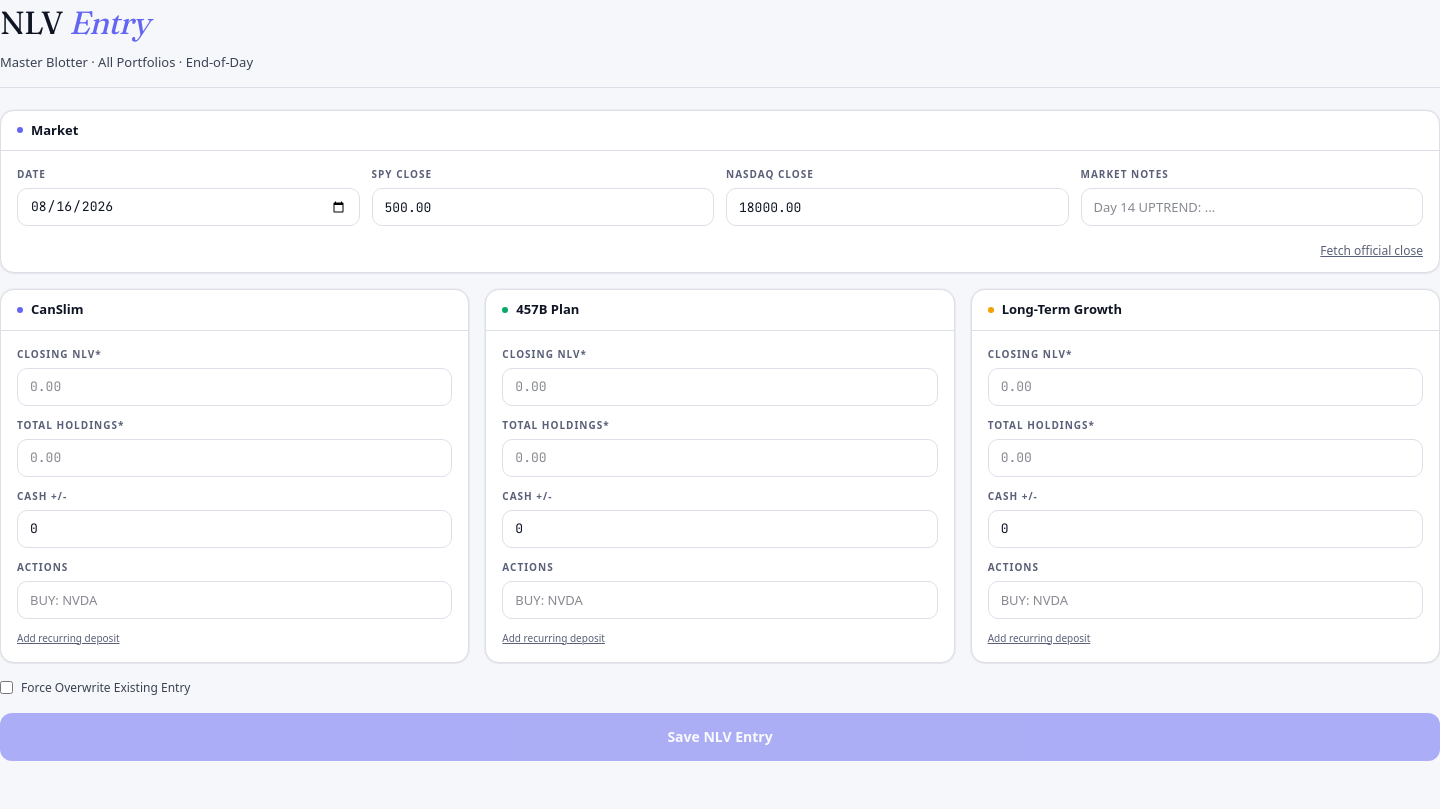
Scenario: NLVEntry — save handler › renders success banner on 200 response
Expected: the element with test id "portfolio-card-CanSlim" is shown, [0, 289, 469, 662]
Type "100000" into the number field with test id "nlv-input-CanSlim" at (235, 386), box [17, 368, 452, 406]
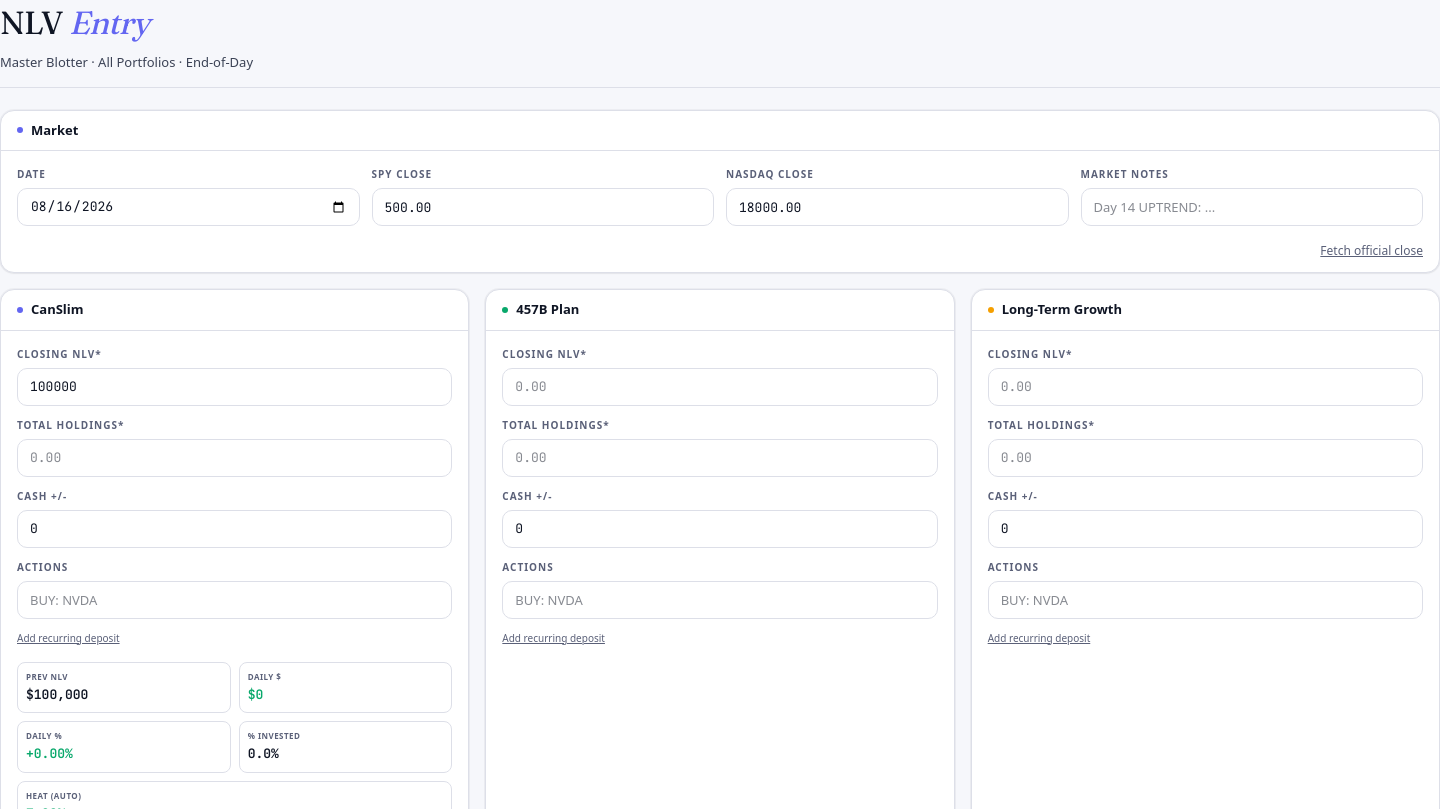
Type "90000" into the number field with test id "holdings-input-CanSlim" at (235, 458), box [17, 438, 452, 476]
Type "100000" into the number field with test id "nlv-input-457B Plan" at (720, 386), box [502, 368, 938, 406]
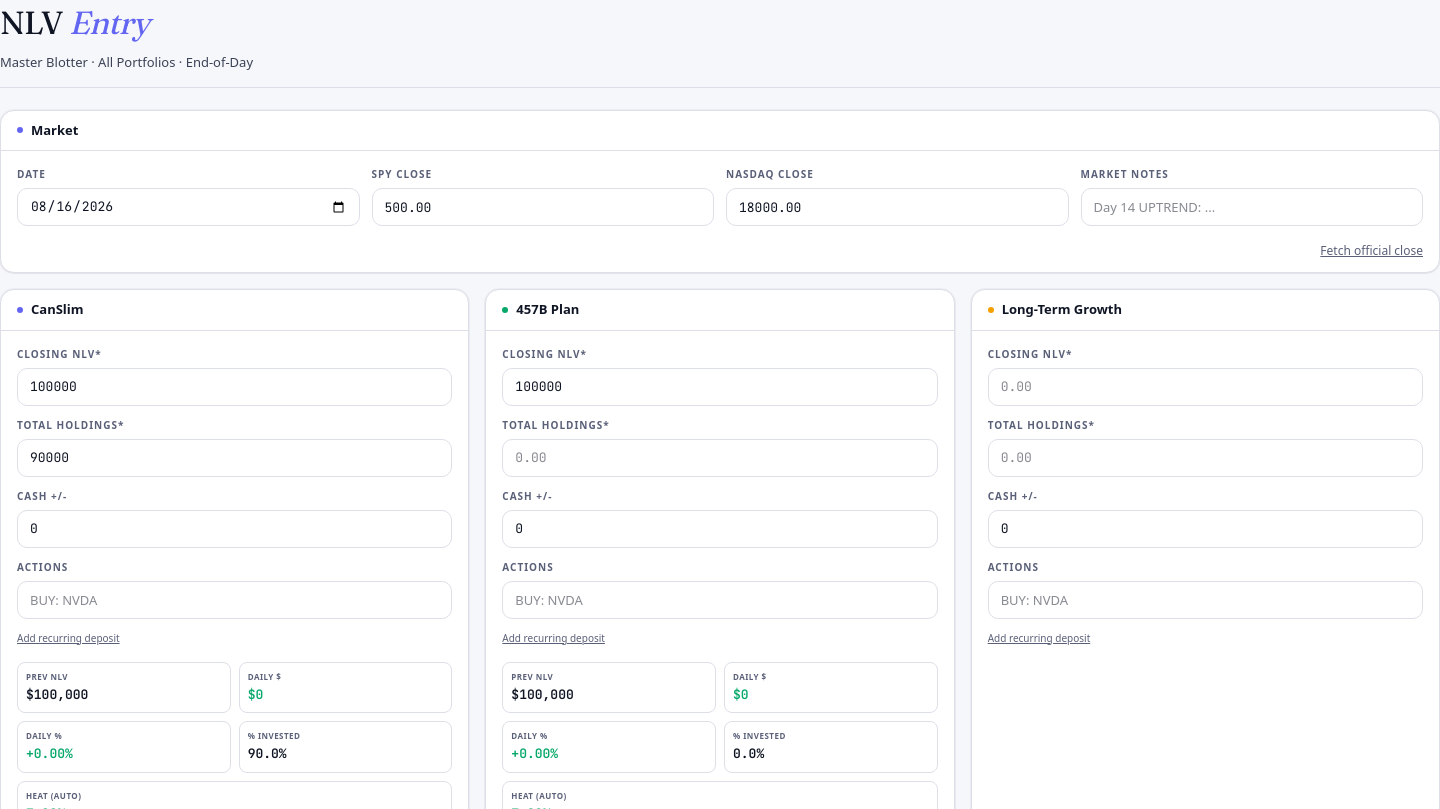
Type "90000" into the number field with placeholder "0.00" below "457B Plan" at (720, 458), box [502, 438, 938, 476]
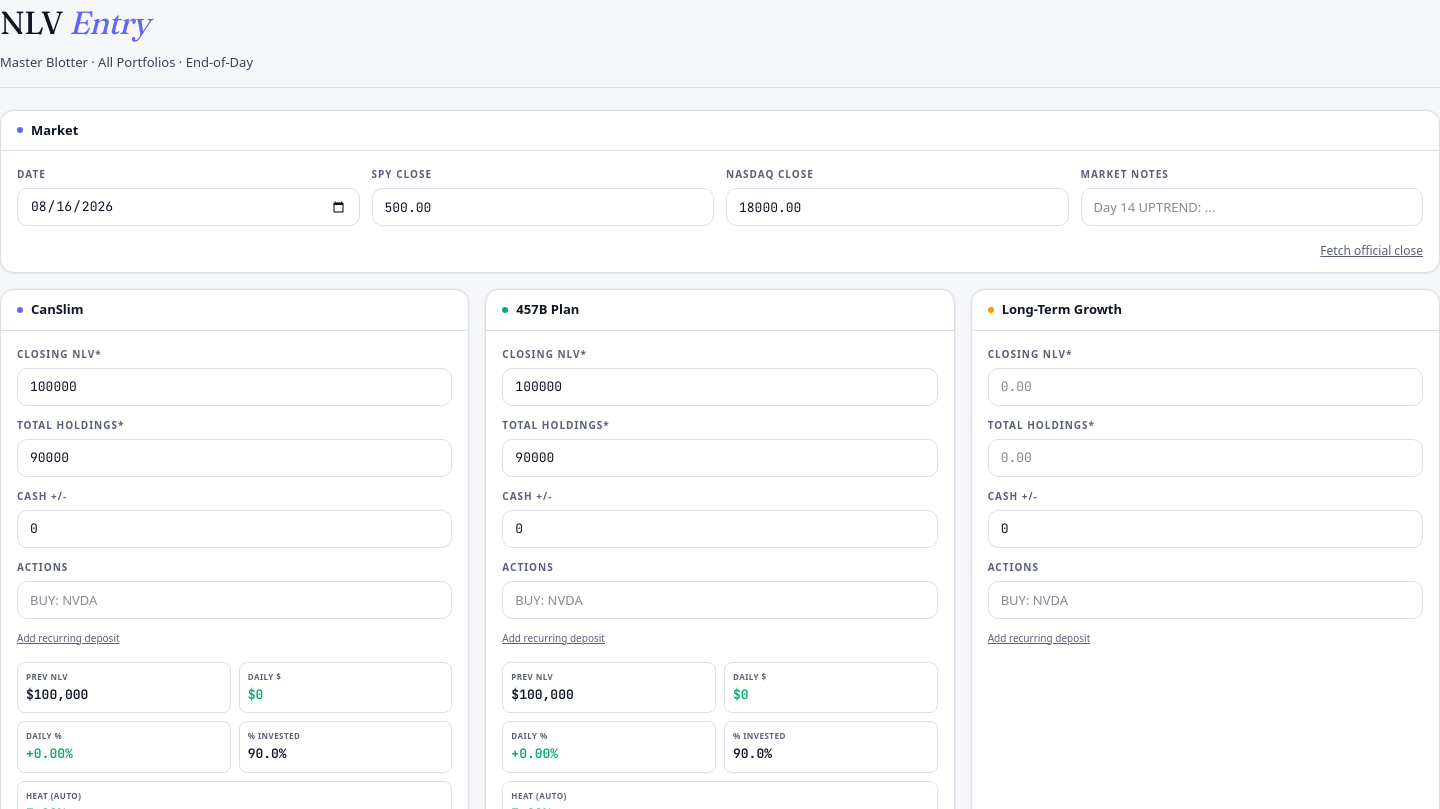
Type "100000" into the 1st number field with placeholder "0.00" at (1205, 386), box [988, 368, 1423, 406]
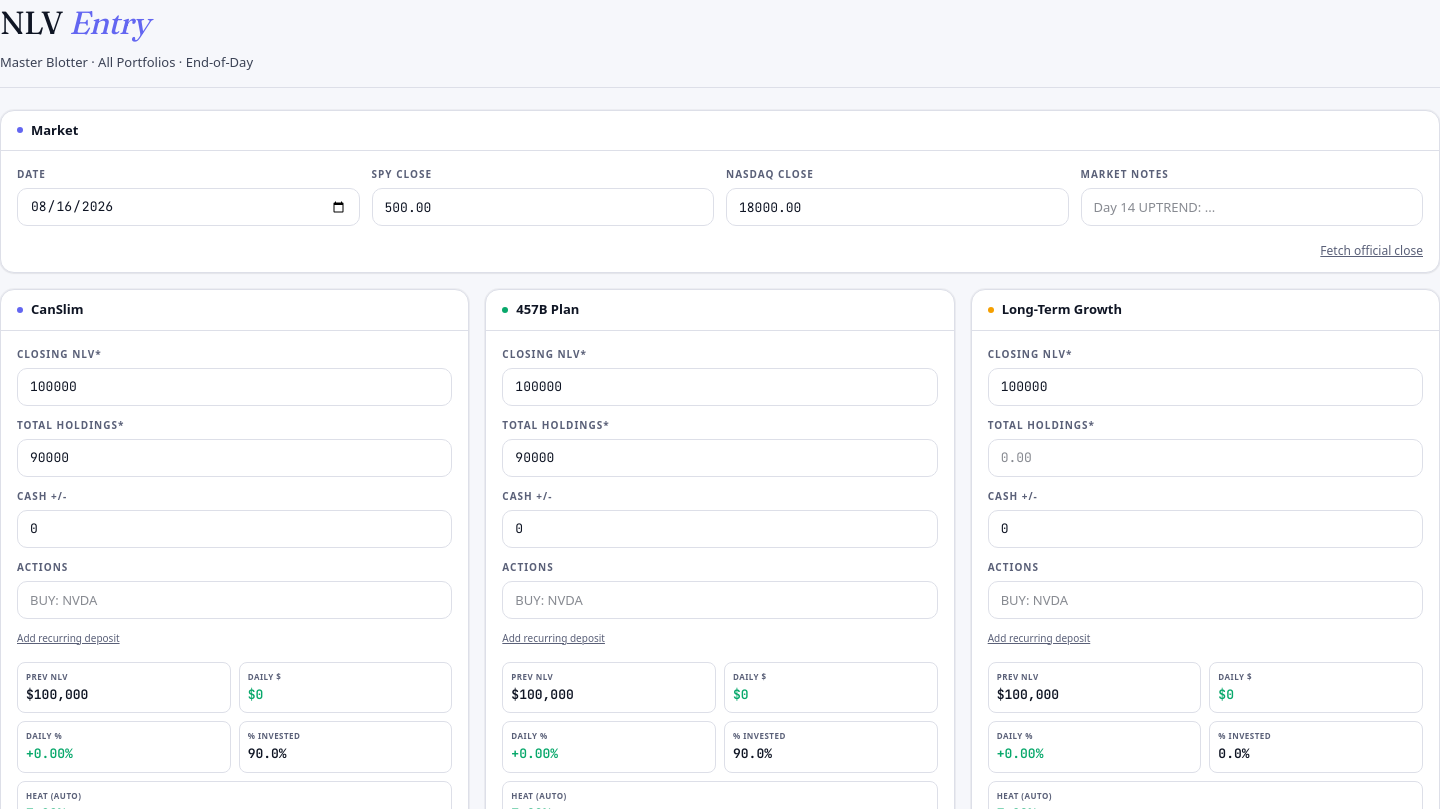
Type "90000" into the number field with placeholder "0.00" at (1205, 458), box [988, 438, 1423, 476]
(page scrolled)
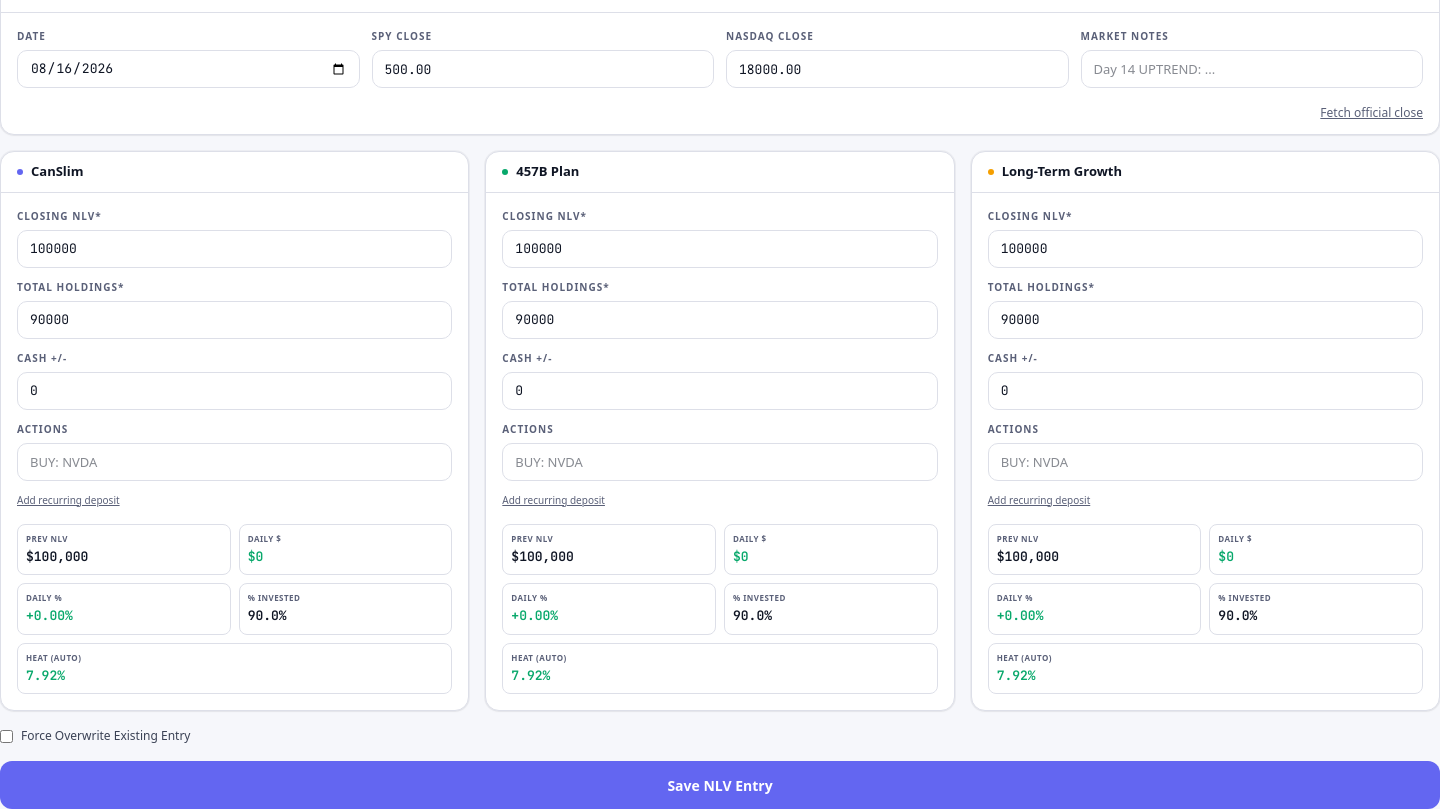
Click the button with test id "save-button" at (720, 785), box [0, 761, 1439, 808]
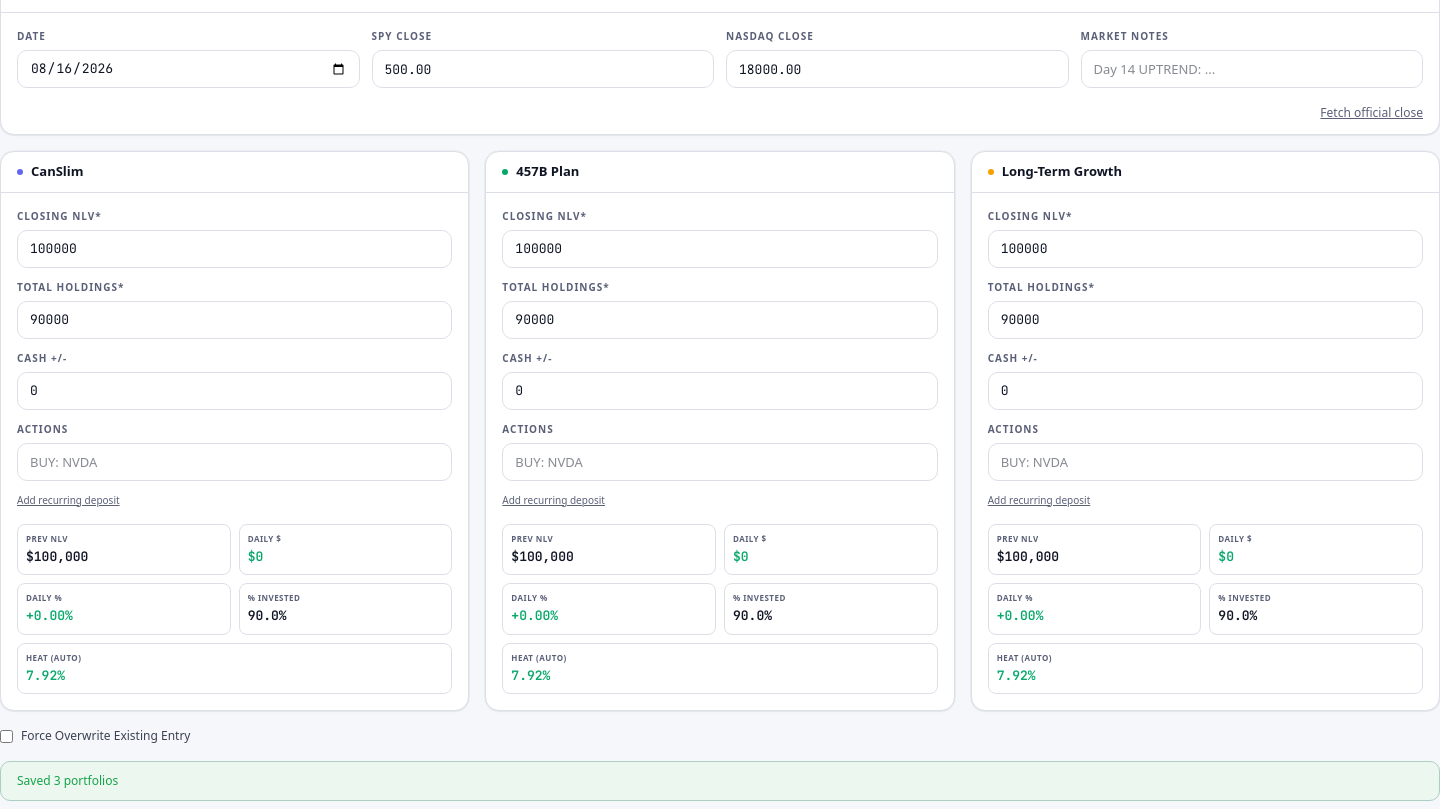
Expected: the message with test id "save-ok-banner" reads "Saved 3 portfolios", [17, 772, 118, 789]
